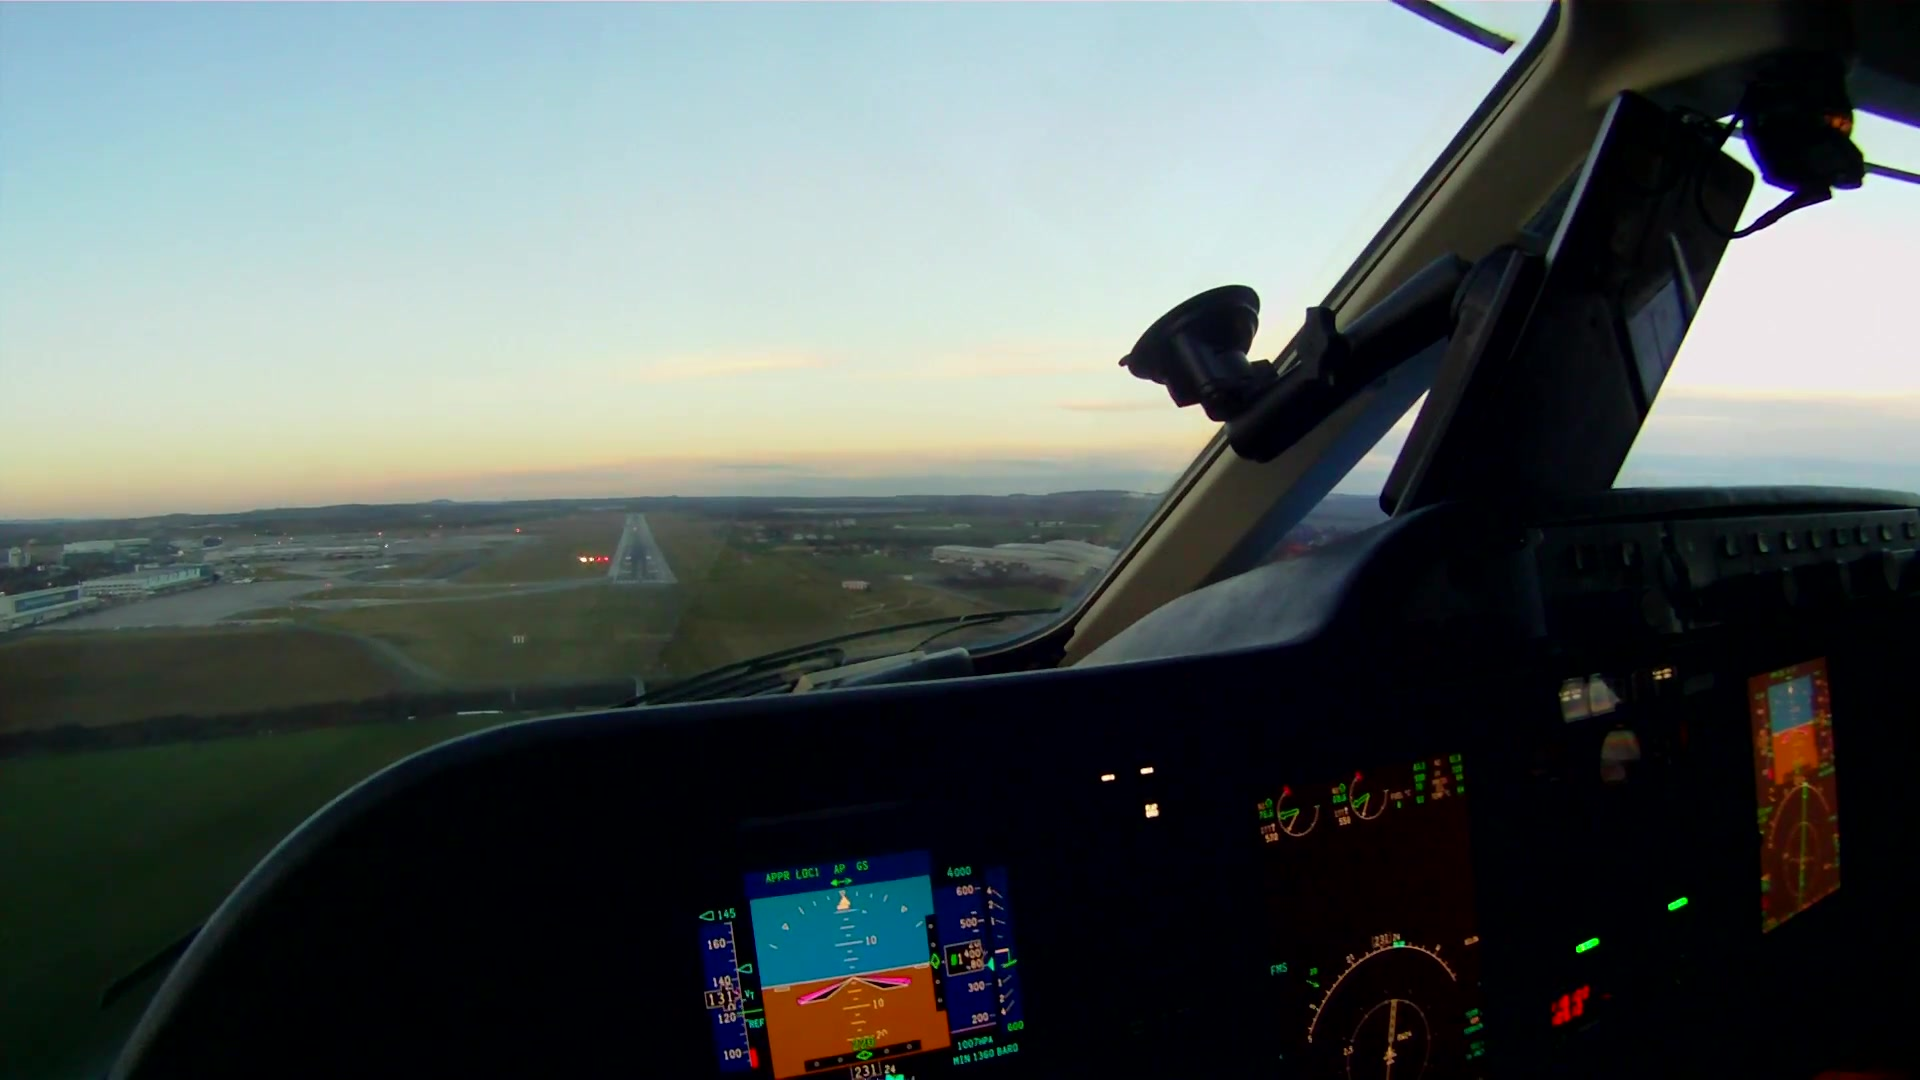entrance: (613, 578, 673, 584)
runway: (611, 512, 680, 589)
